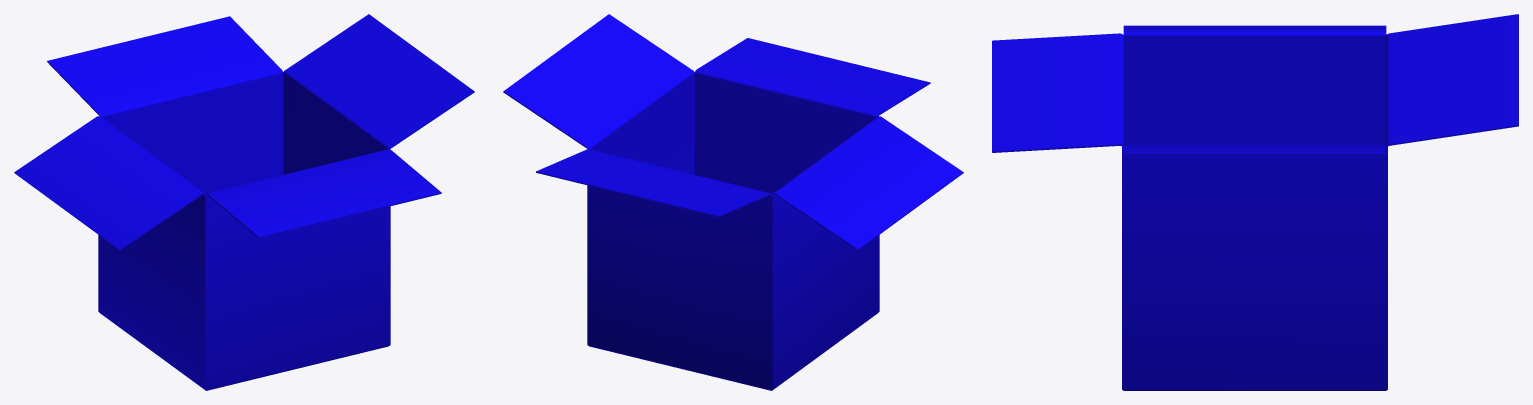
Rendered from SM_Evidence_Box_Open_3.FBX.
3 views of the same model, side by side, from view 1: azimuth 30°, elevation 25°; view 2: azimuth 150°, elevation 25°; view 3: azimuth 270°, elevation 25° (orthographic). The views are drawn at different scales.
Visible parts, largest first — view 1: Evidence_Box_Open_3; view 2: Evidence_Box_Open_3; view 3: Evidence_Box_Open_3.
Boxes of the visible parts, left/top/right/bottom form: Evidence_Box_Open_3: left=14, top=14, right=474, bottom=390; Evidence_Box_Open_3: left=503, top=14, right=963, bottom=390; Evidence_Box_Open_3: left=992, top=14, right=1518, bottom=390.
Size of the model in its own units: 27.47 by 17.31 by 28.38.
